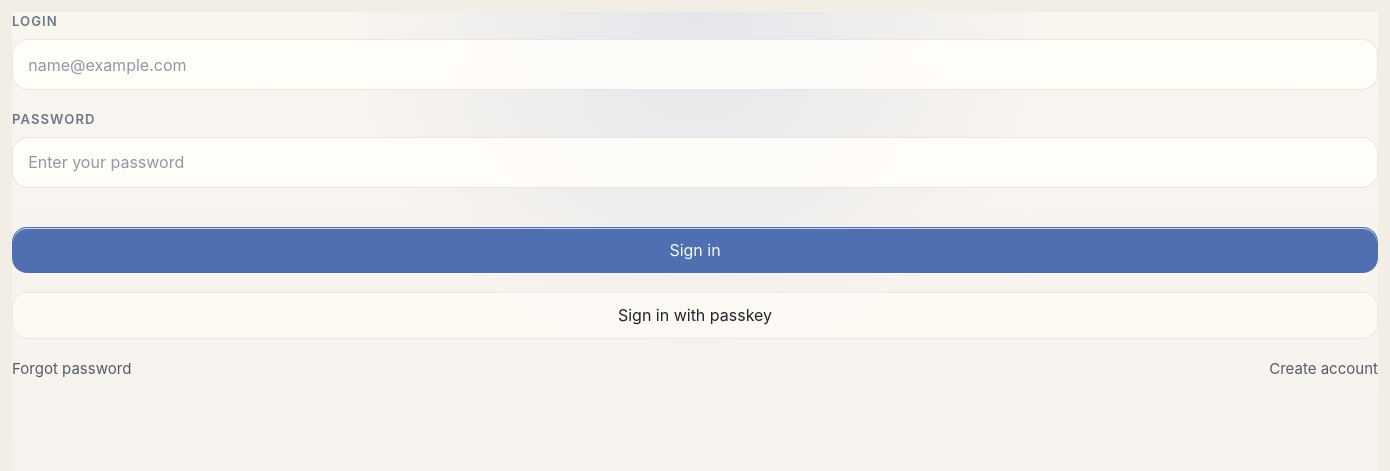
Test case: LoginForm › shows passkey-specific errors without breaking password login
This screenshot has width=1390, height=471.
Click the button "Sign in with passkey" at [695, 315], box left=12, top=292, right=1378, bottom=339
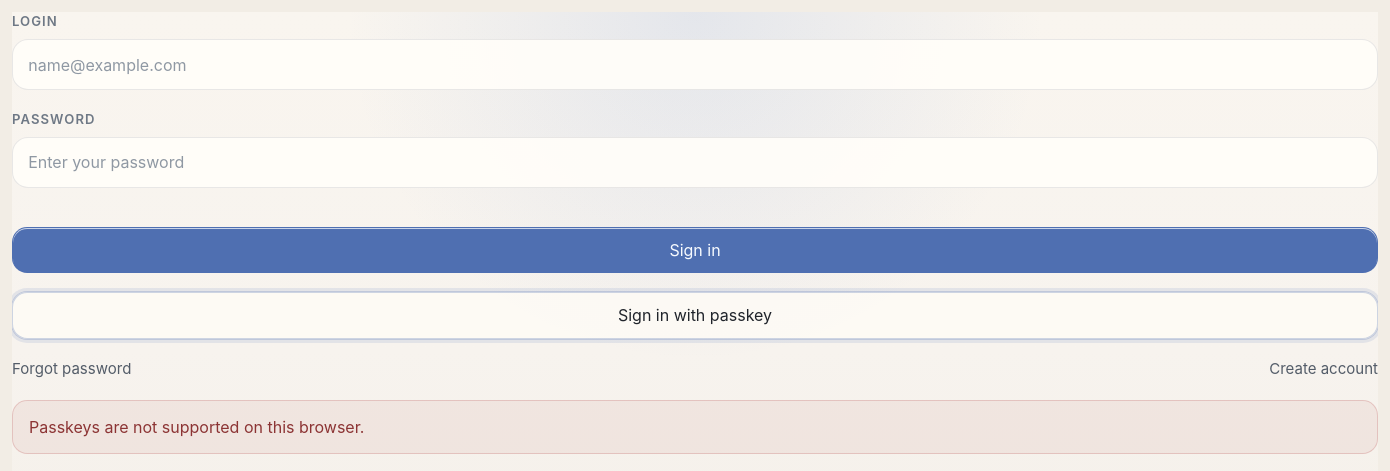
Expected: the button "Sign in" is shown, left=12, top=226, right=1378, bottom=273
Now the text "Passkeys are not supported on this browser." is shown, box left=12, top=400, right=1378, bottom=454
